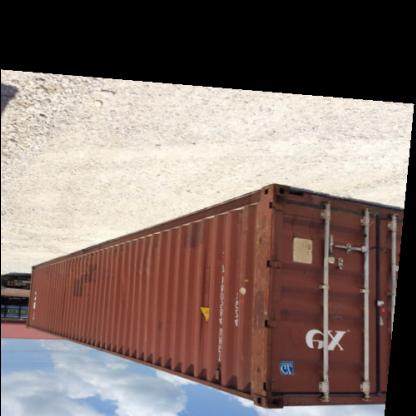Damage: (244, 202, 278, 405), (284, 210, 326, 236), (131, 250, 155, 284)
